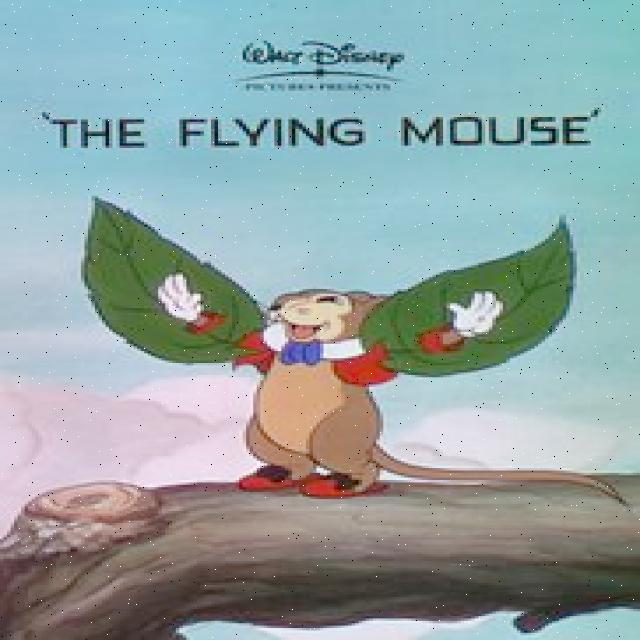movie-judul: (32, 102, 611, 156)
picture: (2, 185, 640, 640)
